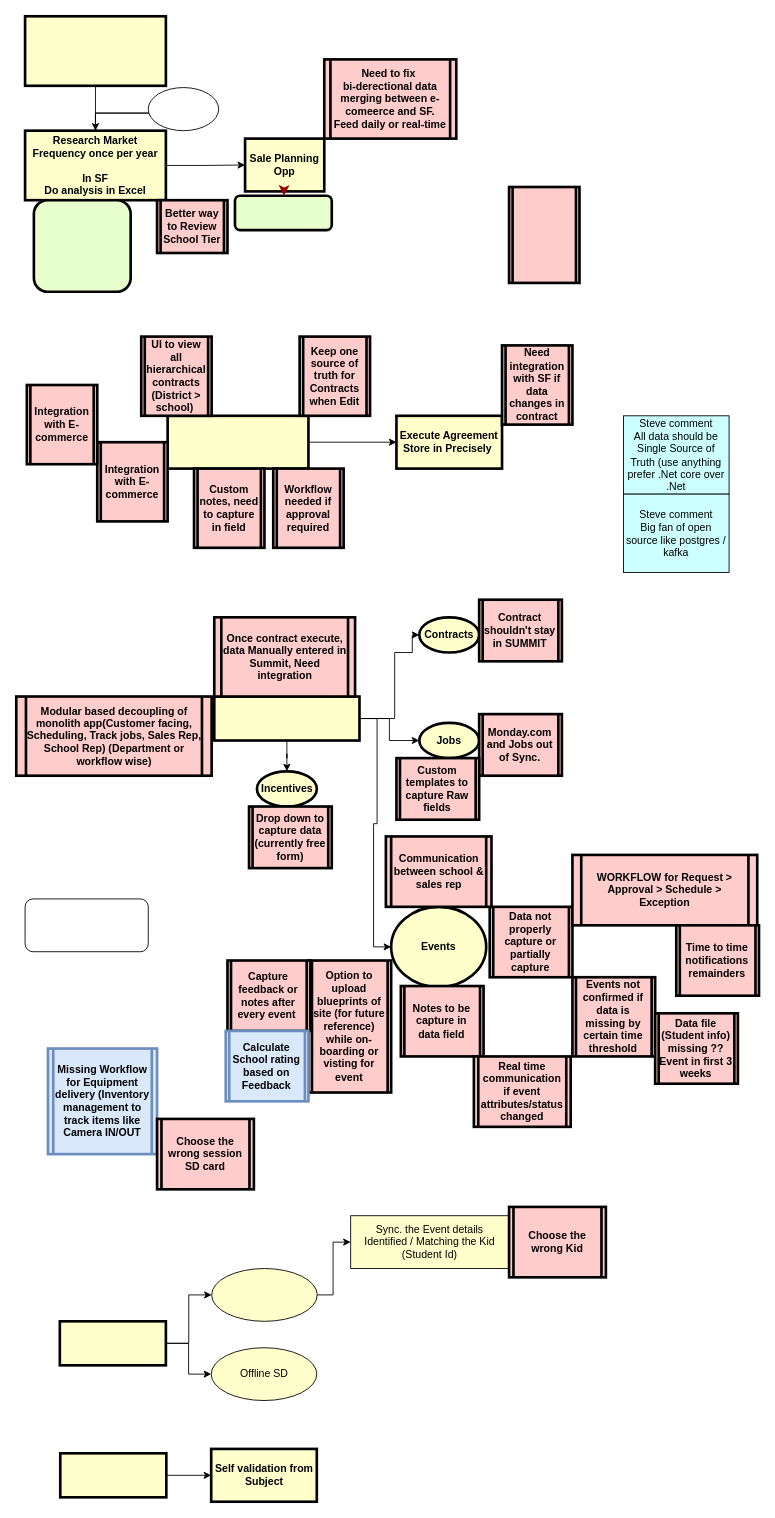
Image size: 775x1518. Some labels were removed from this diagram. Here are the shapes that lost their labels. From the top down, the centre of each, then its label:
[95,51]: External Feed
[183,109]: Owns by Philip/Nikki
[283,212]: Easy acquisition integration
[82,245]: Lunch paid Location partner competitors
[543,234]: Matching students record is a big issue, create multiple profiles
[237,441]: Contracts Stored in SF and Monday.com
[286,718]: Main School CRM DB - SUMMIT
[86,925]: How We Should What We Deliverables
[264,1294]: Tether
[112,1343]: Event Planning
[113,1475]: Photopass app
